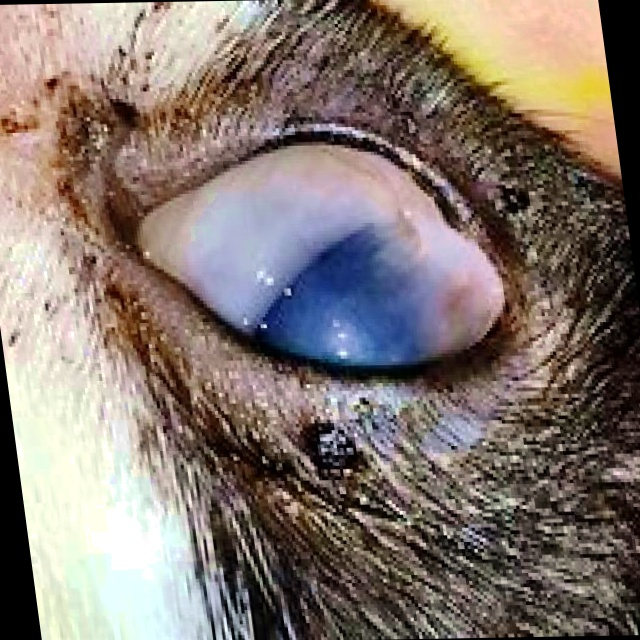eye_infection: (111, 129, 529, 390)
